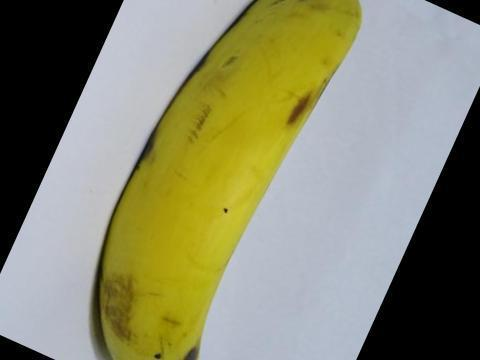freshripe: (77, 0, 380, 359)
